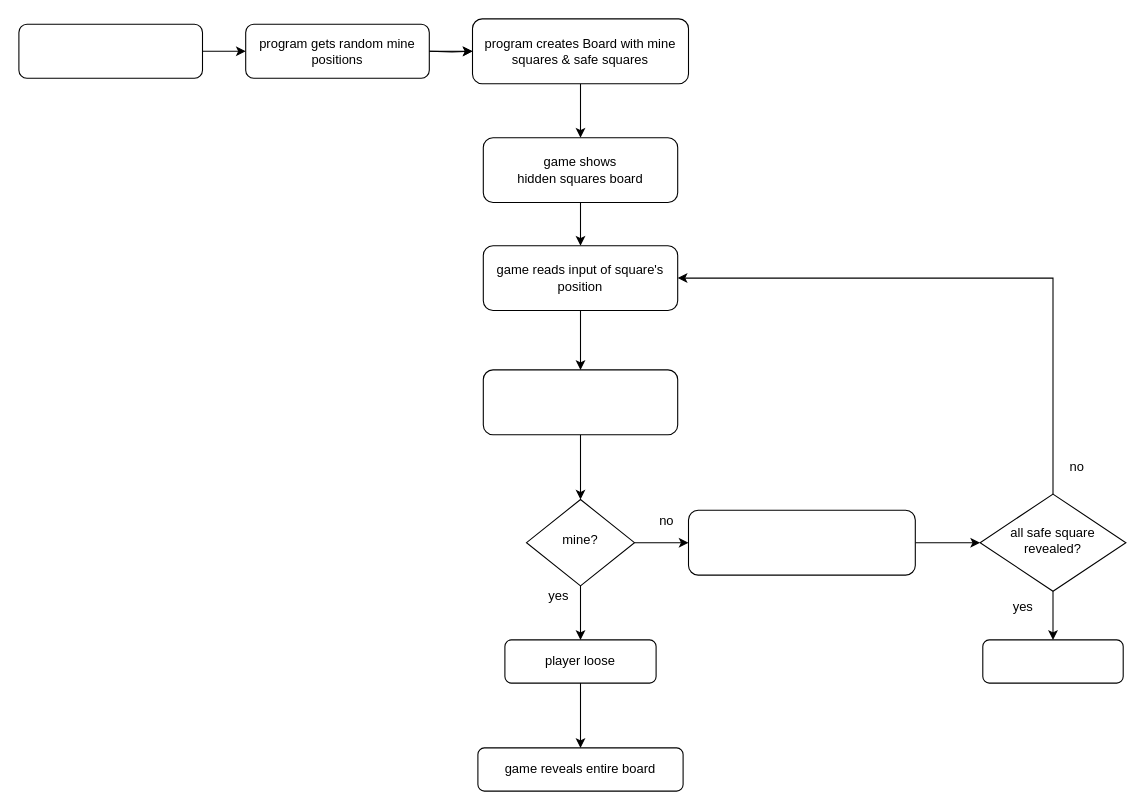
Image size: 1145x810. Some labels were removed from this diagram. The shapes that lost their labels are listed below. From the top down, each one's centre as x and y in pixels, then its label:
At (x=110, y=50): "program reads input of the difficulty of the game (2-10)".
At (x=580, y=402): "game checks the square".
At (x=801, y=542): "game reveals the square with hint (number of mines surround the square)".
At (x=1052, y=661): "player wins".
